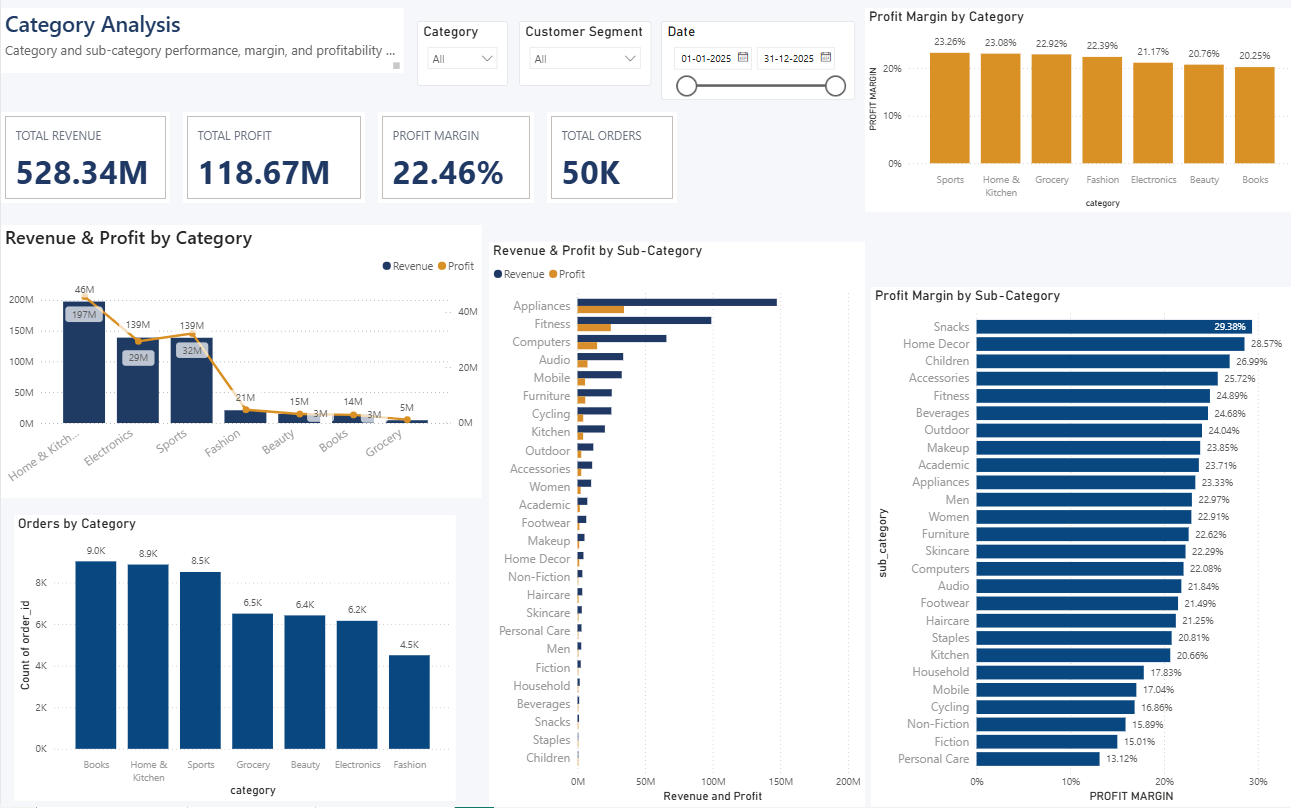

The dashboard page shown, as its layout file describes it:
{"tool":"powerbi","page":{"name":"Category Analysis","canvas":[1600,1000],"ordinal":2},"visuals":[{"type":"lineClusteredColumnComboChart","title":"Revenue & Profit by Category","fields":{"Category":["products.category"],"Y":["Sum(orders.revenue)"],"Y2":["Sum(orders.profit)"]},"box":[0,283.3,592.4,336.2],"z":0},{"type":"clusteredColumnChart","title":"Profit Margin by Category","fields":{"Category":["products.category"],"Y":["orders.Profit Margin"]},"box":[1064,16,535.7,251.2],"z":1000},{"type":"clusteredColumnChart","title":"Orders by Category","fields":{"Category":["products.category"],"Y":["CountNonNull(orders.order_id)"]},"box":[16,640,544,352],"z":2000},{"type":"clusteredBarChart","title":"Revenue & Profit by Sub-Category","fields":{"Category":["products.sub_category"],"Y":["Sum(orders.revenue)","Sum(orders.profit)"]},"box":[601,304.2,463.1,695.8],"z":3000},{"type":"clusteredBarChart","title":"Profit Margin by Sub-Category","fields":{"Category":["products.sub_category"],"Y":["orders.Profit Margin"]},"box":[1071.4,359.6,528.3,640.4],"z":4000},{"type":"textbox","title":"Category Analysis","box":[0,16,496.3,80],"z":5000},{"type":"cardVisual","fields":{"Data":["orders.Total Revenue"]},"box":[0,144,208,112],"z":6000},{"type":"cardVisual","fields":{"Data":["orders.Total Profit"]},"box":[224,144,224,112],"z":7000},{"type":"cardVisual","fields":{"Data":["orders.Total Orders"]},"box":[672,144,160,112],"z":8000},{"type":"cardVisual","fields":{"Data":["orders.Profit Margin"]},"box":[464,144,192,112],"z":9000},{"type":"slicer","title":"Date","fields":{"Values":["orders.order_date"]},"box":[812.8,32,238.9,97.3],"z":10000},{"type":"slicer","title":"Category","fields":{"Values":["products.category"]},"box":[512.3,32,112.1,80],"z":11000},{"type":"slicer","title":"Customer Segment","fields":{"Values":["customers.customer_segment"]},"box":[637.9,32,162.6,80],"z":12000}]}

Visuals, with their boxes in screenshot pixels (x1, y1, x2, y2), scaled from the page's 1600x1000 canvas onto the 1291x808 screenshot:
"Revenue & Profit by Category" lineClusteredColumnComboChart: [x1=0, y1=229, x2=478, y2=501]
"Profit Margin by Category" clusteredColumnChart: [x1=859, y1=13, x2=1290, y2=216]
"Orders by Category" clusteredColumnChart: [x1=13, y1=517, x2=452, y2=802]
"Revenue & Profit by Sub-Category" clusteredBarChart: [x1=485, y1=246, x2=859, y2=807]
"Profit Margin by Sub-Category" clusteredBarChart: [x1=864, y1=291, x2=1290, y2=807]
"Category Analysis" textbox: [x1=0, y1=13, x2=400, y2=78]
cardVisual - orders.Total Revenue: [x1=0, y1=116, x2=168, y2=207]
cardVisual - orders.Total Profit: [x1=181, y1=116, x2=361, y2=207]
cardVisual - orders.Total Orders: [x1=542, y1=116, x2=671, y2=207]
cardVisual - orders.Profit Margin: [x1=374, y1=116, x2=529, y2=207]
"Date" slicer: [x1=656, y1=26, x2=849, y2=104]
"Category" slicer: [x1=413, y1=26, x2=504, y2=90]
"Customer Segment" slicer: [x1=515, y1=26, x2=646, y2=90]
